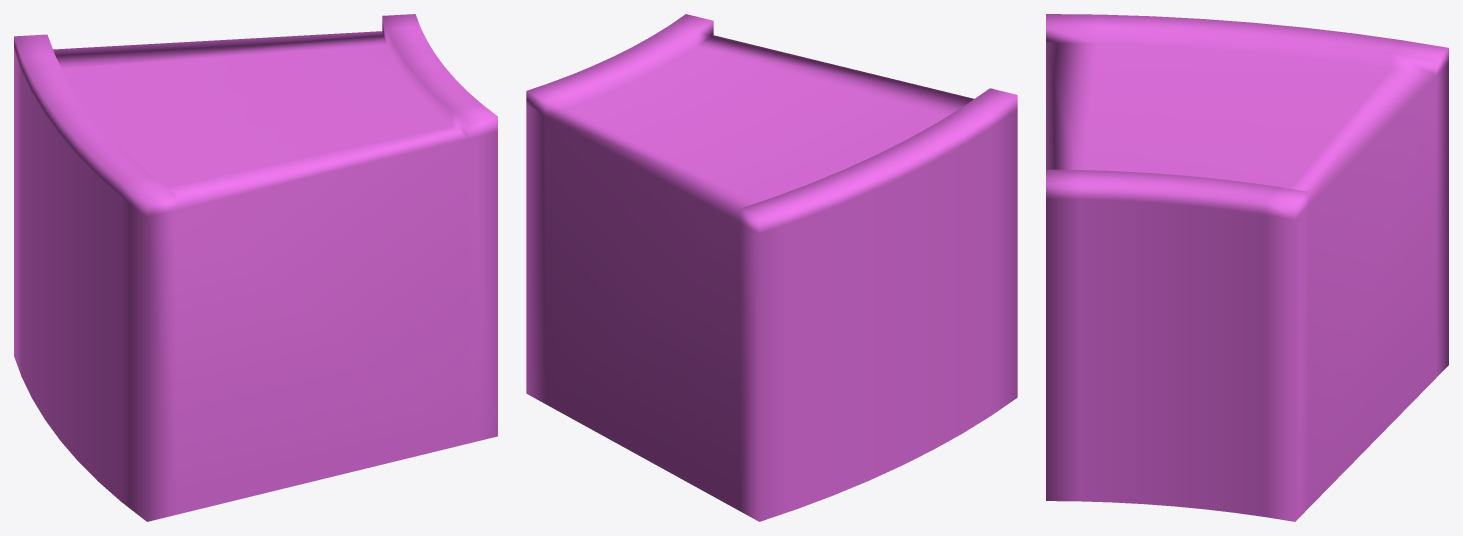
3 views of the same model, side by side, from view 1: azimuth 30°, elevation 25°; view 2: azimuth 150°, elevation 25°; view 3: azimuth 270°, elevation 25° (orthographic). The views are drawn at different scales.
Visible parts, largest first — view 1: Mesh; view 2: Mesh; view 3: Mesh.
Boxes of the visible parts, left/top/right/bottom form: Mesh: left=14, top=14, right=497, bottom=521; Mesh: left=526, top=14, right=1017, bottom=521; Mesh: left=1046, top=14, right=1448, bottom=521.
Bounding box in the file's own units: 539 × 418 × 481.
